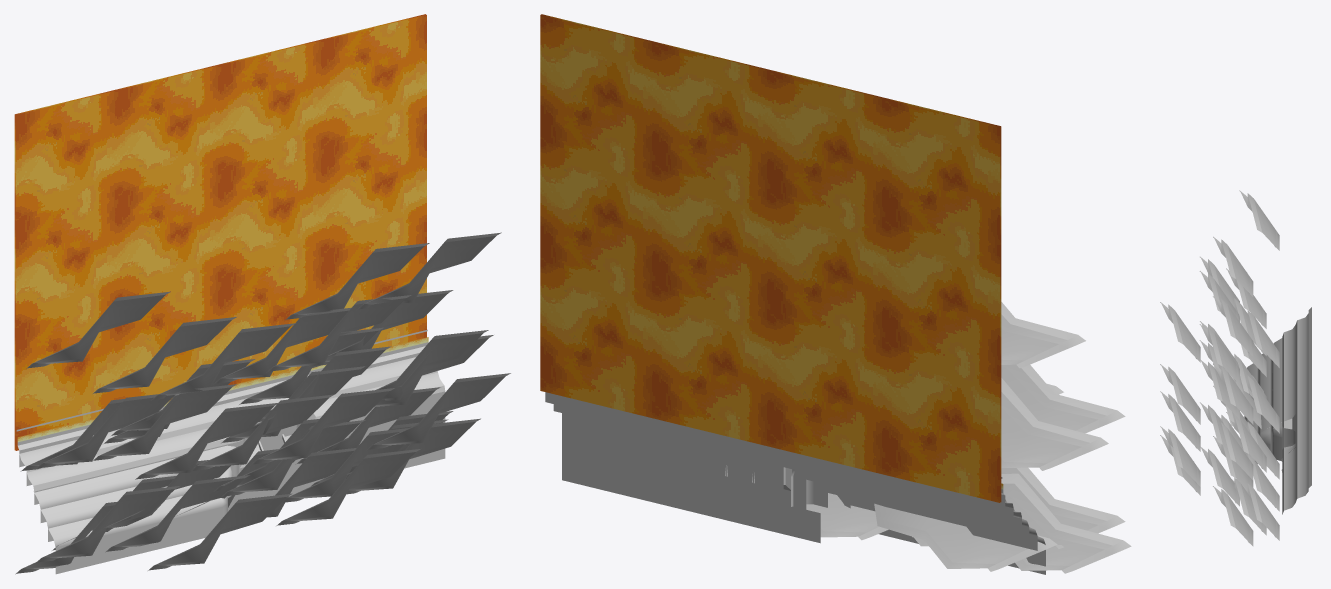
The model's file is Mount-Undara-1_00_01.obj.
3 renders of one model, left to right at view 1: azimuth 30°, elevation 25°; view 2: azimuth 150°, elevation 25°; view 3: azimuth 270°, elevation 25°, orthographic. The views are drawn at different scales.
Visible parts, largest first — view 1: map; view 2: map; view 3: map.
Boxes of the visible parts, x1,y1,x2,y2 form: map: (14, 14, 510, 574); map: (540, 14, 1131, 574); map: (1160, 190, 1311, 546).
Bounding box in the file's own units: 38.18 × 32 × 11.9.
